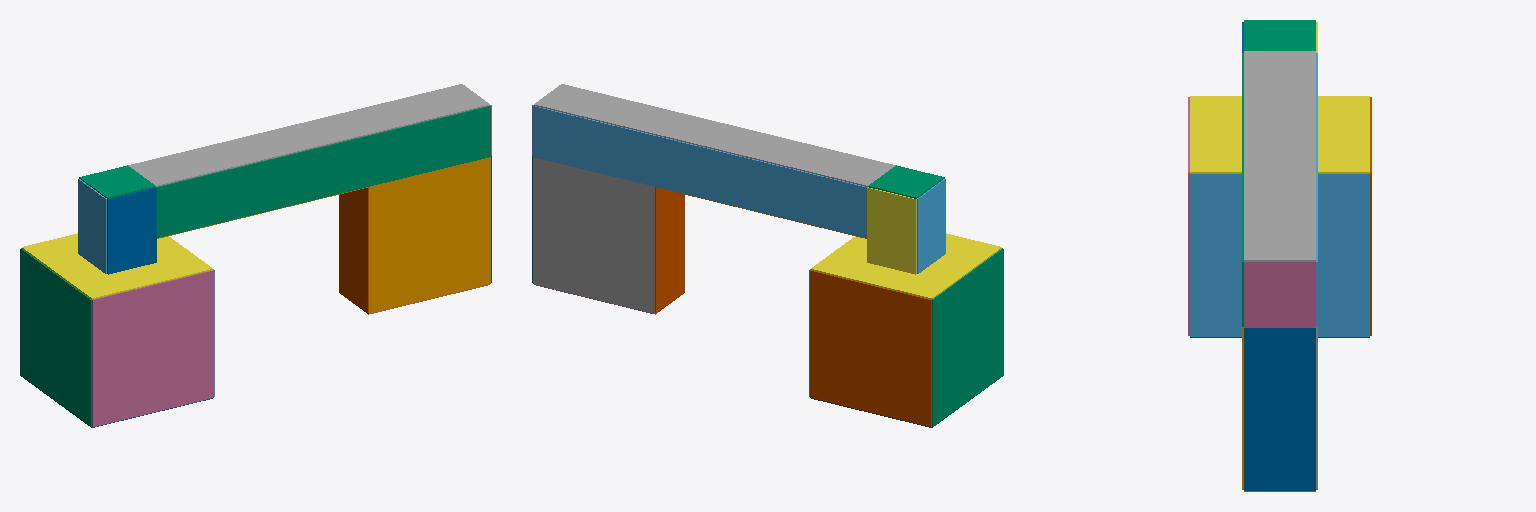
--- What the picture shows (computed from the rendered views, not written in the file) ---
The picture shows the robot from 3 angles, left to right: view 1: azimuth 30°, elevation 25°; view 2: azimuth 150°, elevation 25°; view 3: azimuth 270°, elevation 25°; orthographic projection.
Robot: robot — 34 links, 33 joints (1 continuous, 32 fixed); root link body; default pose: all joints at 0.
Visible links, largest first — view 1: arm_sensor_0_right, body_sensor_0_right, hand_1_sensor_0_right, arm_sensor_0_top, body_sensor_0_stop, body_sensor_0_top, shoulder_sensor_0_right, hand_1_sensor_0_stop, shoulder_sensor_0_stop, shoulder_sensor_0_top; view 2: arm_sensor_0_left, body_sensor_0_left, hand_1_sensor_0_left, arm_sensor_0_top, body_sensor_0_stop, body_sensor_0_top, shoulder_sensor_0_left, hand_1_sensor_0_stop, shoulder_sensor_0_stop, shoulder_sensor_0_top; view 3: body_sensor_0_start, arm_sensor_0_top, hand_1_sensor_0_start, body_sensor_0_top, arm_sensor_0_start, shoulder_sensor_0_top, arm_sensor_0_left, arm_sensor_0_right.
Link boxes in pixels (<box>): arm_sensor_0_right: <box>156,106,490,237</box>; body_sensor_0_right: <box>92,270,213,426</box>; hand_1_sensor_0_right: <box>369,157,490,313</box>; arm_sensor_0_top: <box>128,84,489,186</box>; body_sensor_0_stop: <box>20,248,91,426</box>; body_sensor_0_top: <box>22,233,212,299</box>; shoulder_sensor_0_right: <box>107,187,156,274</box>; hand_1_sensor_0_stop: <box>339,187,368,313</box>; shoulder_sensor_0_stop: <box>78,179,106,273</box>; shoulder_sensor_0_top: <box>79,165,155,198</box>; arm_sensor_0_left: <box>533,106,867,237</box>; body_sensor_0_left: <box>810,270,931,426</box>; hand_1_sensor_0_left: <box>533,157,654,313</box>; arm_sensor_0_top: <box>534,84,895,186</box>; body_sensor_0_stop: <box>932,248,1003,426</box>; body_sensor_0_top: <box>811,233,1001,299</box>; shoulder_sensor_0_left: <box>867,187,916,274</box>; hand_1_sensor_0_stop: <box>655,187,684,313</box>; shoulder_sensor_0_stop: <box>917,179,945,273</box>; shoulder_sensor_0_top: <box>868,165,944,198</box>; body_sensor_0_start: <box>1190,173,1369,336</box>; arm_sensor_0_top: <box>1244,51,1315,261</box>; hand_1_sensor_0_start: <box>1244,328,1315,490</box>; body_sensor_0_top: <box>1190,96,1369,172</box>; arm_sensor_0_start: <box>1244,262,1315,327</box>; shoulder_sensor_0_top: <box>1244,20,1315,50</box>; arm_sensor_0_left: <box>1316,53,1317,326</box>; arm_sensor_0_right: <box>1242,53,1243,326</box>.
Bounding box of the posed robot: 3.47 × 1.02 × 1.62 m (x, y, z).
Geometry: primitives only (box / cylinder / sphere), no mesh files.

The robot description file, URDF, robot "robot":
<?xml version="1.0"?>
<robot name="robot">


    <!-- body -->
    <link name="body">
        <inertial>
            <origin xyz="0 0 0" rpy="0 0 0"/>
            <mass value="100"/>
            <inertia ixx=".1" ixy=".1" ixz=".1" iyy=".1" iyz=".1" izz=".1"/>
        </inertial>
        <visual>
            <origin xyz="0 0 0" rpy="0 0 0"/>
            <geometry>
                <box size="1 1 1"/>
            </geometry>
        </visual>
        <collision>
            <origin xyz="0 0 0" rpy="0 0 0"/>
            <geometry>
                <box size="1 1 1"/>
            </geometry>
        </collision>
    </link>


    <!-- body_sensor_0_start -->
    <link name="body_sensor_0_start">
        <inertial>
            <origin xyz="0 0 0" rpy="0 0 0"/>
            <mass value="0"/>
            <inertia ixx=".1" ixy=".1" ixz=".1" iyy=".1" iyz=".1" izz=".1"/>
        </inertial>
        <visual>
            <origin xyz="0 0 0" rpy="0 0 0"/>
            <geometry>
                <box size="0.02 1 1"/>
            </geometry>
        </visual>
        <collision>
            <origin xyz="0 0 0" rpy="0 0 0"/>
            <geometry>
                <box size="0.02 1 1"/>
            </geometry>
        </collision>
    </link>
    <!-- Joint: body, body_sensor_0_start -->
    <joint name="body_body_sensor_0_start_joint" type="fixed">
        <parent link="body"/>
        <child link="body_sensor_0_start"/>
        <origin xyz="0.5 0 0"
                rpy="0 0 0"/>
        <axis xyz="0 0 1"/>
        
    </joint>


    <!-- body_sensor_0_stop -->
    <link name="body_sensor_0_stop">
        <inertial>
            <origin xyz="0 0 0" rpy="0 0 0"/>
            <mass value="0"/>
            <inertia ixx=".1" ixy=".1" ixz=".1" iyy=".1" iyz=".1" izz=".1"/>
        </inertial>
        <visual>
            <origin xyz="0 0 0" rpy="0 0 0"/>
            <geometry>
                <box size="0.02 1 1"/>
            </geometry>
        </visual>
        <collision>
            <origin xyz="0 0 0" rpy="0 0 0"/>
            <geometry>
                <box size="0.02 1 1"/>
            </geometry>
        </collision>
    </link>
    <!-- Joint: body, body_sensor_0_stop -->
    <joint name="body_body_sensor_0_stop_joint" type="fixed">
        <parent link="body"/>
        <child link="body_sensor_0_stop"/>
        <origin xyz="-0.5 0 0"
                rpy="0 0 0"/>
        <axis xyz="0 0 1"/>
        
    </joint>


    <!-- body_sensor_0_top -->
    <link name="body_sensor_0_top">
        <inertial>
            <origin xyz="0 0 0" rpy="0 0 0"/>
            <mass value="0"/>
            <inertia ixx=".1" ixy=".1" ixz=".1" iyy=".1" iyz=".1" izz=".1"/>
        </inertial>
        <visual>
            <origin xyz="0 0 0" rpy="0 0 0"/>
            <geometry>
                <box size="1.0 1 0.02"/>
            </geometry>
        </visual>
        <collision>
            <origin xyz="0 0 0" rpy="0 0 0"/>
            <geometry>
                <box size="1.0 1 0.02"/>
            </geometry>
        </collision>
    </link>
    <!-- Joint: body, body_sensor_0_top -->
    <joint name="body_body_sensor_0_top_joint" type="fixed">
        <parent link="body"/>
        <child link="body_sensor_0_top"/>
        <origin xyz="0 0 0.5"
                rpy="0 0 0"/>
        <axis xyz="0 0 1"/>
        
    </joint>


    <!-- body_sensor_0_bottom -->
    <link name="body_sensor_0_bottom">
        <inertial>
            <origin xyz="0 0 0" rpy="0 0 0"/>
            <mass value="0"/>
            <inertia ixx=".1" ixy=".1" ixz=".1" iyy=".1" iyz=".1" izz=".1"/>
        </inertial>
        <visual>
            <origin xyz="0 0 0" rpy="0 0 0"/>
            <geometry>
                <box size="1.0 1 0.02"/>
            </geometry>
        </visual>
        <collision>
            <origin xyz="0 0 0" rpy="0 0 0"/>
            <geometry>
                <box size="1.0 1 0.02"/>
            </geometry>
        </collision>
    </link>
    <!-- Joint: body, body_sensor_0_bottom -->
    <joint name="body_body_sensor_0_bottom_joint" type="fixed">
        <parent link="body"/>
        <child link="body_sensor_0_bottom"/>
        <origin xyz="0 0 -0.5"
                rpy="0 0 0"/>
        <axis xyz="0 0 1"/>
        
    </joint>


    <!-- body_sensor_0_left -->
    <link name="body_sensor_0_left">
        <inertial>
            <origin xyz="0 0 0" rpy="0 0 0"/>
            <mass value="0"/>
            <inertia ixx=".1" ixy=".1" ixz=".1" iyy=".1" iyz=".1" izz=".1"/>
        </inertial>
        <visual>
            <origin xyz="0 0 0" rpy="0 0 0"/>
            <geometry>
                <box size="1.0 0.02 1"/>
            </geometry>
        </visual>
        <collision>
            <origin xyz="0 0 0" rpy="0 0 0"/>
            <geometry>
                <box size="1.0 0.02 1"/>
            </geometry>
        </collision>
    </link>
    <!-- Joint: body, body_sensor_0_left -->
    <joint name="body_body_sensor_0_left_joint" type="fixed">
        <parent link="body"/>
        <child link="body_sensor_0_left"/>
        <origin xyz="0 0.5 0"
                rpy="0 0 0"/>
        <axis xyz="0 0 1"/>
        
    </joint>


    <!-- body_sensor_0_right -->
    <link name="body_sensor_0_right">
        <inertial>
            <origin xyz="0 0 0" rpy="0 0 0"/>
            <mass value="0"/>
            <inertia ixx=".1" ixy=".1" ixz=".1" iyy=".1" iyz=".1" izz=".1"/>
        </inertial>
        <visual>
            <origin xyz="0 0 0" rpy="0 0 0"/>
            <geometry>
                <box size="1.0 0.02 1"/>
            </geometry>
        </visual>
        <collision>
            <origin xyz="0 0 0" rpy="0 0 0"/>
            <geometry>
                <box size="1.0 0.02 1"/>
            </geometry>
        </collision>
    </link>
    <!-- Joint: body, body_sensor_0_right -->
    <joint name="body_body_sensor_0_right_joint" type="fixed">
        <parent link="body"/>
        <child link="body_sensor_0_right"/>
        <origin xyz="0 -0.5 0"
                rpy="0 0 0"/>
        <axis xyz="0 0 1"/>
        
    </joint>


    <!-- shoulder -->
    <link name="shoulder">
        <inertial>
            <origin xyz="0 0 0" rpy="0 0 0"/>
            <mass value="2"/>
            <inertia ixx=".1" ixy=".1" ixz=".1" iyy=".1" iyz=".1" izz=".1"/>
        </inertial>
        <visual>
            <origin xyz="0 0 0" rpy="0 0 0"/>
            <geometry>
                <box size="0.4 0.4 0.6"/>
            </geometry>
        </visual>
        <collision>
            <origin xyz="0 0 0" rpy="0 0 0"/>
            <geometry>
                <box size="0.4 0.4 0.6"/>
            </geometry>
        </collision>
    </link>


    <!-- shoulder_sensor_0_start -->
    <link name="shoulder_sensor_0_start">
        <inertial>
            <origin xyz="0 0 0" rpy="0 0 0"/>
            <mass value="0"/>
            <inertia ixx=".1" ixy=".1" ixz=".1" iyy=".1" iyz=".1" izz=".1"/>
        </inertial>
        <visual>
            <origin xyz="0 0 0" rpy="0 0 0"/>
            <geometry>
                <box size="0.02 0.4 0.6"/>
            </geometry>
        </visual>
        <collision>
            <origin xyz="0 0 0" rpy="0 0 0"/>
            <geometry>
                <box size="0.02 0.4 0.6"/>
            </geometry>
        </collision>
    </link>
    <!-- Joint: shoulder, shoulder_sensor_0_start -->
    <joint name="shoulder_shoulder_sensor_0_start_joint" type="fixed">
        <parent link="shoulder"/>
        <child link="shoulder_sensor_0_start"/>
        <origin xyz="0.2 0 0"
                rpy="0 0 0"/>
        <axis xyz="0 0 1"/>
        
    </joint>


    <!-- shoulder_sensor_0_stop -->
    <link name="shoulder_sensor_0_stop">
        <inertial>
            <origin xyz="0 0 0" rpy="0 0 0"/>
            <mass value="0"/>
            <inertia ixx=".1" ixy=".1" ixz=".1" iyy=".1" iyz=".1" izz=".1"/>
        </inertial>
        <visual>
            <origin xyz="0 0 0" rpy="0 0 0"/>
            <geometry>
                <box size="0.02 0.4 0.6"/>
            </geometry>
        </visual>
        <collision>
            <origin xyz="0 0 0" rpy="0 0 0"/>
            <geometry>
                <box size="0.02 0.4 0.6"/>
            </geometry>
        </collision>
    </link>
    <!-- Joint: shoulder, shoulder_sensor_0_stop -->
    <joint name="shoulder_shoulder_sensor_0_stop_joint" type="fixed">
        <parent link="shoulder"/>
        <child link="shoulder_sensor_0_stop"/>
        <origin xyz="-0.2 0 0"
                rpy="0 0 0"/>
        <axis xyz="0 0 1"/>
        
    </joint>


    <!-- shoulder_sensor_0_top -->
    <link name="shoulder_sensor_0_top">
        <inertial>
            <origin xyz="0 0 0" rpy="0 0 0"/>
            <mass value="0"/>
            <inertia ixx=".1" ixy=".1" ixz=".1" iyy=".1" iyz=".1" izz=".1"/>
        </inertial>
        <visual>
            <origin xyz="0 0 0" rpy="0 0 0"/>
            <geometry>
                <box size="0.4 0.4 0.02"/>
            </geometry>
        </visual>
        <collision>
            <origin xyz="0 0 0" rpy="0 0 0"/>
            <geometry>
                <box size="0.4 0.4 0.02"/>
            </geometry>
        </collision>
    </link>
    <!-- Joint: shoulder, shoulder_sensor_0_top -->
    <joint name="shoulder_shoulder_sensor_0_top_joint" type="fixed">
        <parent link="shoulder"/>
        <child link="shoulder_sensor_0_top"/>
        <origin xyz="0 0 0.3"
                rpy="0 0 0"/>
        <axis xyz="0 0 1"/>
        
    </joint>


    <!-- shoulder_sensor_0_left -->
    <link name="shoulder_sensor_0_left">
        <inertial>
            <origin xyz="0 0 0" rpy="0 0 0"/>
            <mass value="0"/>
            <inertia ixx=".1" ixy=".1" ixz=".1" iyy=".1" iyz=".1" izz=".1"/>
        </inertial>
        <visual>
            <origin xyz="0 0 0" rpy="0 0 0"/>
            <geometry>
                <box size="0.4 0.02 0.6"/>
            </geometry>
        </visual>
        <collision>
            <origin xyz="0 0 0" rpy="0 0 0"/>
            <geometry>
                <box size="0.4 0.02 0.6"/>
            </geometry>
        </collision>
    </link>
    <!-- Joint: shoulder, shoulder_sensor_0_left -->
    <joint name="shoulder_shoulder_sensor_0_left_joint" type="fixed">
        <parent link="shoulder"/>
        <child link="shoulder_sensor_0_left"/>
        <origin xyz="0 0.2 0"
                rpy="0 0 0"/>
        <axis xyz="0 0 1"/>
        
    </joint>


    <!-- shoulder_sensor_0_right -->
    <link name="shoulder_sensor_0_right">
        <inertial>
            <origin xyz="0 0 0" rpy="0 0 0"/>
            <mass value="0"/>
            <inertia ixx=".1" ixy=".1" ixz=".1" iyy=".1" iyz=".1" izz=".1"/>
        </inertial>
        <visual>
            <origin xyz="0 0 0" rpy="0 0 0"/>
            <geometry>
                <box size="0.4 0.02 0.6"/>
            </geometry>
        </visual>
        <collision>
            <origin xyz="0 0 0" rpy="0 0 0"/>
            <geometry>
                <box size="0.4 0.02 0.6"/>
            </geometry>
        </collision>
    </link>
    <!-- Joint: shoulder, shoulder_sensor_0_right -->
    <joint name="shoulder_shoulder_sensor_0_right_joint" type="fixed">
        <parent link="shoulder"/>
        <child link="shoulder_sensor_0_right"/>
        <origin xyz="0 -0.2 0"
                rpy="0 0 0"/>
        <axis xyz="0 0 1"/>
        
    </joint>
    <!-- Joint: body, shoulder -->
    <joint name="body_shoulder_joint" type="continuous">
        <parent link="body"/>
        <child link="shoulder"/>
        <origin xyz="0 0 0.8"
                rpy="0 0 0"/>
        <axis xyz="0 0 1"/>
        <limit lower="0" upper="0" effort="0" velocity="0"/>
    </joint>


    <!-- arm -->
    <link name="arm">
        <inertial>
            <origin xyz="0 0 0" rpy="0 0 0"/>
            <mass value="2"/>
            <inertia ixx=".1" ixy=".1" ixz=".1" iyy=".1" iyz=".1" izz=".1"/>
        </inertial>
        <visual>
            <origin xyz="0 0 0" rpy="0 0 0"/>
            <geometry>
                <box size="2.75 0.4 0.4"/>
            </geometry>
        </visual>
        <collision>
            <origin xyz="0 0 0" rpy="0 0 0"/>
            <geometry>
                <box size="2.75 0.4 0.4"/>
            </geometry>
        </collision>
    </link>


    <!-- arm_sensor_0_start -->
    <link name="arm_sensor_0_start">
        <inertial>
            <origin xyz="0 0 0" rpy="0 0 0"/>
            <mass value="0"/>
            <inertia ixx=".1" ixy=".1" ixz=".1" iyy=".1" iyz=".1" izz=".1"/>
        </inertial>
        <visual>
            <origin xyz="0 0 0" rpy="0 0 0"/>
            <geometry>
                <box size="0.02 0.4 0.4"/>
            </geometry>
        </visual>
        <collision>
            <origin xyz="0 0 0" rpy="0 0 0"/>
            <geometry>
                <box size="0.02 0.4 0.4"/>
            </geometry>
        </collision>
    </link>
    <!-- Joint: arm, arm_sensor_0_start -->
    <joint name="arm_arm_sensor_0_start_joint" type="fixed">
        <parent link="arm"/>
        <child link="arm_sensor_0_start"/>
        <origin xyz="1.375 0 0"
                rpy="0 0 0"/>
        <axis xyz="0 1 0"/>
        
    </joint>


    <!-- arm_sensor_0_top -->
    <link name="arm_sensor_0_top">
        <inertial>
            <origin xyz="0 0 0" rpy="0 0 0"/>
            <mass value="0"/>
            <inertia ixx=".1" ixy=".1" ixz=".1" iyy=".1" iyz=".1" izz=".1"/>
        </inertial>
        <visual>
            <origin xyz="0 0 0" rpy="0 0 0"/>
            <geometry>
                <box size="2.75 0.4 0.02"/>
            </geometry>
        </visual>
        <collision>
            <origin xyz="0 0 0" rpy="0 0 0"/>
            <geometry>
                <box size="2.75 0.4 0.02"/>
            </geometry>
        </collision>
    </link>
    <!-- Joint: arm, arm_sensor_0_top -->
    <joint name="arm_arm_sensor_0_top_joint" type="fixed">
        <parent link="arm"/>
        <child link="arm_sensor_0_top"/>
        <origin xyz="0 0 0.2"
                rpy="0 0 0"/>
        <axis xyz="0 1 0"/>
        
    </joint>


    <!-- arm_sensor_0_bottom -->
    <link name="arm_sensor_0_bottom">
        <inertial>
            <origin xyz="0 0 0" rpy="0 0 0"/>
            <mass value="0"/>
            <inertia ixx=".1" ixy=".1" ixz=".1" iyy=".1" iyz=".1" izz=".1"/>
        </inertial>
        <visual>
            <origin xyz="0 0 0" rpy="0 0 0"/>
            <geometry>
                <box size="2.75 0.4 0.02"/>
            </geometry>
        </visual>
        <collision>
            <origin xyz="0 0 0" rpy="0 0 0"/>
            <geometry>
                <box size="2.75 0.4 0.02"/>
            </geometry>
        </collision>
    </link>
    <!-- Joint: arm, arm_sensor_0_bottom -->
    <joint name="arm_arm_sensor_0_bottom_joint" type="fixed">
        <parent link="arm"/>
        <child link="arm_sensor_0_bottom"/>
        <origin xyz="0 0 -0.2"
                rpy="0 0 0"/>
        <axis xyz="0 1 0"/>
        
    </joint>


    <!-- arm_sensor_0_left -->
    <link name="arm_sensor_0_left">
        <inertial>
            <origin xyz="0 0 0" rpy="0 0 0"/>
            <mass value="0"/>
            <inertia ixx=".1" ixy=".1" ixz=".1" iyy=".1" iyz=".1" izz=".1"/>
        </inertial>
        <visual>
            <origin xyz="0 0 0" rpy="0 0 0"/>
            <geometry>
                <box size="2.75 0.02 0.4"/>
            </geometry>
        </visual>
        <collision>
            <origin xyz="0 0 0" rpy="0 0 0"/>
            <geometry>
                <box size="2.75 0.02 0.4"/>
            </geometry>
        </collision>
    </link>
    <!-- Joint: arm, arm_sensor_0_left -->
    <joint name="arm_arm_sensor_0_left_joint" type="fixed">
        <parent link="arm"/>
        <child link="arm_sensor_0_left"/>
        <origin xyz="0 0.2 0"
                rpy="0 0 0"/>
        <axis xyz="0 1 0"/>
        
    </joint>


    <!-- arm_sensor_0_right -->
    <link name="arm_sensor_0_right">
        <inertial>
            <origin xyz="0 0 0" rpy="0 0 0"/>
            <mass value="0"/>
            <inertia ixx=".1" ixy=".1" ixz=".1" iyy=".1" iyz=".1" izz=".1"/>
        </inertial>
        <visual>
            <origin xyz="0 0 0" rpy="0 0 0"/>
            <geometry>
                <box size="2.75 0.02 0.4"/>
            </geometry>
        </visual>
        <collision>
            <origin xyz="0 0 0" rpy="0 0 0"/>
            <geometry>
                <box size="2.75 0.02 0.4"/>
            </geometry>
        </collision>
    </link>
    <!-- Joint: arm, arm_sensor_0_right -->
    <joint name="arm_arm_sensor_0_right_joint" type="fixed">
        <parent link="arm"/>
        <child link="arm_sensor_0_right"/>
        <origin xyz="0 -0.2 0"
                rpy="0 0 0"/>
        <axis xyz="0 1 0"/>
        
    </joint>
    <!-- Joint: shoulder, arm -->
    <joint name="shoulder_arm_joint" type="fixed">
        <parent link="shoulder"/>
        <child link="arm"/>
        <origin xyz="1.575 0 0.1"
                rpy="0 0 0"/>
        <axis xyz="0 1 0"/>
        
    </joint>


    <!-- hand_1 -->
    <link name="hand_1">
        <inertial>
            <origin xyz="0 0 0" rpy="0 0 0"/>
            <mass value="2"/>
            <inertia ixx=".1" ixy=".1" ixz=".1" iyy=".1" iyz=".1" izz=".1"/>
        </inertial>
        <visual>
            <origin xyz="0 0 0" rpy="0 0 0"/>
            <geometry>
                <box size="1 0.4 1"/>
            </geometry>
        </visual>
        <collision>
            <origin xyz="0 0 0" rpy="0 0 0"/>
            <geometry>
                <box size="1 0.4 1"/>
            </geometry>
        </collision>
    </link>


    <!-- hand_1_sensor_0_start -->
    <link name="hand_1_sensor_0_start">
        <inertial>
            <origin xyz="0 0 0" rpy="0 0 0"/>
            <mass value="0"/>
            <inertia ixx=".1" ixy=".1" ixz=".1" iyy=".1" iyz=".1" izz=".1"/>
        </inertial>
        <visual>
            <origin xyz="0 0 0" rpy="0 0 0"/>
            <geometry>
                <box size="0.02 0.4 1"/>
            </geometry>
        </visual>
        <collision>
            <origin xyz="0 0 0" rpy="0 0 0"/>
            <geometry>
                <box size="0.02 0.4 1"/>
            </geometry>
        </collision>
    </link>
    <!-- Joint: hand_1, hand_1_sensor_0_start -->
    <joint name="hand_1_hand_1_sensor_0_start_joint" type="fixed">
        <parent link="hand_1"/>
        <child link="hand_1_sensor_0_start"/>
        <origin xyz="0.5 0 0"
                rpy="0 0 0"/>
        <axis xyz="0 1 0"/>
        
    </joint>


    <!-- hand_1_sensor_0_stop -->
    <link name="hand_1_sensor_0_stop">
        <inertial>
            <origin xyz="0 0 0" rpy="0 0 0"/>
            <mass value="0"/>
            <inertia ixx=".1" ixy=".1" ixz=".1" iyy=".1" iyz=".1" izz=".1"/>
        </inertial>
        <visual>
            <origin xyz="0 0 0" rpy="0 0 0"/>
            <geometry>
                <box size="0.02 0.4 1"/>
            </geometry>
        </visual>
        <collision>
            <origin xyz="0 0 0" rpy="0 0 0"/>
            <geometry>
                <box size="0.02 0.4 1"/>
            </geometry>
        </collision>
    </link>
    <!-- Joint: hand_1, hand_1_sensor_0_stop -->
    <joint name="hand_1_hand_1_sensor_0_stop_joint" type="fixed">
        <parent link="hand_1"/>
        <child link="hand_1_sensor_0_stop"/>
        <origin xyz="-0.5 0 0"
                rpy="0 0 0"/>
        <axis xyz="0 1 0"/>
        
    </joint>


    <!-- hand_1_sensor_0_bottom -->
    <link name="hand_1_sensor_0_bottom">
        <inertial>
            <origin xyz="0 0 0" rpy="0 0 0"/>
            <mass value="0"/>
            <inertia ixx=".1" ixy=".1" ixz=".1" iyy=".1" iyz=".1" izz=".1"/>
        </inertial>
        <visual>
            <origin xyz="0 0 0" rpy="0 0 0"/>
            <geometry>
                <box size="1.0 0.4 0.02"/>
            </geometry>
        </visual>
        <collision>
            <origin xyz="0 0 0" rpy="0 0 0"/>
            <geometry>
                <box size="1.0 0.4 0.02"/>
            </geometry>
        </collision>
    </link>
    <!-- Joint: hand_1, hand_1_sensor_0_bottom -->
    <joint name="hand_1_hand_1_sensor_0_bottom_joint" type="fixed">
        <parent link="hand_1"/>
        <child link="hand_1_sensor_0_bottom"/>
        <origin xyz="0 0 -0.5"
                rpy="0 0 0"/>
        <axis xyz="0 1 0"/>
        
    </joint>


    <!-- hand_1_sensor_0_left -->
    <link name="hand_1_sensor_0_left">
        <inertial>
            <origin xyz="0 0 0" rpy="0 0 0"/>
            <mass value="0"/>
            <inertia ixx=".1" ixy=".1" ixz=".1" iyy=".1" iyz=".1" izz=".1"/>
        </inertial>
        <visual>
            <origin xyz="0 0 0" rpy="0 0 0"/>
            <geometry>
                <box size="1.0 0.02 1"/>
            </geometry>
        </visual>
        <collision>
            <origin xyz="0 0 0" rpy="0 0 0"/>
            <geometry>
                <box size="1.0 0.02 1"/>
            </geometry>
        </collision>
    </link>
    <!-- Joint: hand_1, hand_1_sensor_0_left -->
    <joint name="hand_1_hand_1_sensor_0_left_joint" type="fixed">
        <parent link="hand_1"/>
        <child link="hand_1_sensor_0_left"/>
        <origin xyz="0 0.2 0"
                rpy="0 0 0"/>
        <axis xyz="0 1 0"/>
        
    </joint>


    <!-- hand_1_sensor_0_right -->
    <link name="hand_1_sensor_0_right">
        <inertial>
            <origin xyz="0 0 0" rpy="0 0 0"/>
            <mass value="0"/>
            <inertia ixx=".1" ixy=".1" ixz=".1" iyy=".1" iyz=".1" izz=".1"/>
        </inertial>
        <visual>
            <origin xyz="0 0 0" rpy="0 0 0"/>
            <geometry>
                <box size="1.0 0.02 1"/>
            </geometry>
        </visual>
        <collision>
            <origin xyz="0 0 0" rpy="0 0 0"/>
            <geometry>
                <box size="1.0 0.02 1"/>
            </geometry>
        </collision>
    </link>
    <!-- Joint: hand_1, hand_1_sensor_0_right -->
    <joint name="hand_1_hand_1_sensor_0_right_joint" type="fixed">
        <parent link="hand_1"/>
        <child link="hand_1_sensor_0_right"/>
        <origin xyz="0 -0.2 0"
                rpy="0 0 0"/>
        <axis xyz="0 1 0"/>
        
    </joint>
    <!-- Joint: arm, hand_1 -->
    <joint name="arm_hand_1_joint" type="fixed">
        <parent link="arm"/>
        <child link="hand_1"/>
        <origin xyz="0.875 0 -0.7"
                rpy="0 0 0"/>
        <axis xyz="0 1 0"/>
        
    </joint>


    <!-- body_face_0 -->
    <link name="body_face_0">
        <inertial>
            <origin xyz="0 0 0" rpy="0 0 0"/>
            <mass value="0"/>
            <inertia ixx=".1" ixy=".1" ixz=".1" iyy=".1" iyz=".1" izz=".1"/>
        </inertial>
        <visual>
            <origin xyz="0 0 0" rpy="0 0 0"/>
            <geometry>
                <box size="0.002 0.1111111111111111 0.1111111111111111"/>
            </geometry>
        </visual>
        <collision>
            <origin xyz="0 0 0" rpy="0 0 0"/>
            <geometry>
                <box size="0.002 0.1111111111111111 0.1111111111111111"/>
            </geometry>
        </collision>
    </link>
    <!-- Joint: body, body_face_0 -->
    <joint name="body_body_face_0_joint" type="fixed">
        <parent link="body"/>
        <child link="body_face_0"/>
        <origin xyz="0.501 -0.33333333333333337 0.11111111111111116"
                rpy="0 0 0"/>
        <axis xyz="0 0 1"/>
        
    </joint>


    <!-- body_face_1 -->
    <link name="body_face_1">
        <inertial>
            <origin xyz="0 0 0" rpy="0 0 0"/>
            <mass value="0"/>
            <inertia ixx=".1" ixy=".1" ixz=".1" iyy=".1" iyz=".1" izz=".1"/>
        </inertial>
        <visual>
            <origin xyz="0 0 0" rpy="0 0 0"/>
            <geometry>
                <box size="0.002 0.1111111111111111 0.1111111111111111"/>
            </geometry>
        </visual>
        <collision>
            <origin xyz="0 0 0" rpy="0 0 0"/>
            <geometry>
                <box size="0.002 0.1111111111111111 0.1111111111111111"/>
            </geometry>
        </collision>
    </link>
    <!-- Joint: body, body_face_1 -->
    <joint name="body_body_face_1_joint" type="fixed">
        <parent link="body"/>
        <child link="body_face_1"/>
        <origin xyz="0.501 -0.2222222222222222 0.2222222222222222"
                rpy="0 0 0"/>
        <axis xyz="0 0 1"/>
        
    </joint>


    <!-- body_face_2 -->
    <link name="body_face_2">
        <inertial>
            <origin xyz="0 0 0" rpy="0 0 0"/>
            <mass value="0"/>
            <inertia ixx=".1" ixy=".1" ixz=".1" iyy=".1" iyz=".1" izz=".1"/>
        </inertial>
        <visual>
            <origin xyz="0 0 0" rpy="0 0 0"/>
            <geometry>
                <box size="0.002 0.1111111111111111 0.1111111111111111"/>
            </geometry>
        </visual>
        <collision>
            <origin xyz="0 0 0" rpy="0 0 0"/>
            <geometry>
                <box size="0.002 0.1111111111111111 0.1111111111111111"/>
            </geometry>
        </collision>
    </link>
    <!-- Joint: body, body_face_2 -->
    <joint name="body_body_face_2_joint" type="fixed">
        <parent link="body"/>
        <child link="body_face_2"/>
        <origin xyz="0.501 -0.1111111111111111 0.11111111111111116"
                rpy="0 0 0"/>
        <axis xyz="0 0 1"/>
        
    </joint>


    <!-- body_face_3 -->
    <link name="body_face_3">
        <inertial>
            <origin xyz="0 0 0" rpy="0 0 0"/>
            <mass value="0"/>
            <inertia ixx=".1" ixy=".1" ixz=".1" iyy=".1" iyz=".1" izz=".1"/>
        </inertial>
        <visual>
            <origin xyz="0 0 0" rpy="0 0 0"/>
            <geometry>
                <box size="0.002 0.1111111111111111 0.1111111111111111"/>
            </geometry>
        </visual>
        <collision>
            <origin xyz="0 0 0" rpy="0 0 0"/>
            <geometry>
                <box size="0.002 0.1111111111111111 0.1111111111111111"/>
            </geometry>
        </collision>
    </link>
    <!-- Joint: body, body_face_3 -->
    <joint name="body_body_face_3_joint" type="fixed">
        <parent link="body"/>
        <child link="body_face_3"/>
        <origin xyz="0.501 -0.1111111111111111 -0.2222222222222222"
                rpy="0 0 0"/>
        <axis xyz="0 0 1"/>
        
    </joint>


    <!-- body_face_4 -->
    <link name="body_face_4">
        <inertial>
            <origin xyz="0 0 0" rpy="0 0 0"/>
            <mass value="0"/>
            <inertia ixx=".1" ixy=".1" ixz=".1" iyy=".1" iyz=".1" izz=".1"/>
        </inertial>
        <visual>
            <origin xyz="0 0 0" rpy="0 0 0"/>
            <geometry>
                <box size="0.002 0.1111111111111111 0.1111111111111111"/>
            </geometry>
        </visual>
        <collision>
            <origin xyz="0 0 0" rpy="0 0 0"/>
            <geometry>
                <box size="0.002 0.1111111111111111 0.1111111111111111"/>
            </geometry>
        </collision>
    </link>
    <!-- Joint: body, body_face_4 -->
    <joint name="body_body_face_4_joint" type="fixed">
        <parent link="body"/>
        <child link="body_face_4"/>
        <origin xyz="0.501 0.0 -0.2222222222222222"
                rpy="0 0 0"/>
        <axis xyz="0 0 1"/>
        
    </joint>


    <!-- body_face_5 -->
    <link name="body_face_5">
        <inertial>
            <origin xyz="0 0 0" rpy="0 0 0"/>
            <mass value="0"/>
            <inertia ixx=".1" ixy=".1" ixz=".1" iyy=".1" iyz=".1" izz=".1"/>
        </inertial>
        <visual>
            <origin xyz="0 0 0" rpy="0 0 0"/>
            <geometry>
                <box size="0.002 0.1111111111111111 0.1111111111111111"/>
            </geometry>
        </visual>
        <collision>
            <origin xyz="0 0 0" rpy="0 0 0"/>
            <geometry>
                <box size="0.002 0.1111111111111111 0.1111111111111111"/>
            </geometry>
        </collision>
    </link>
    <!-- Joint: body, body_face_5 -->
    <joint name="body_body_face_5_joint" type="fixed">
        <parent link="body"/>
        <child link="body_face_5"/>
        <origin xyz="0.501 0.11111111111111116 0.11111111111111116"
                rpy="0 0 0"/>
        <axis xyz="0 0 1"/>
        
    </joint>


    <!-- body_face_6 -->
    <link name="body_face_6">
        <inertial>
            <origin xyz="0 0 0" rpy="0 0 0"/>
            <mass value="0"/>
            <inertia ixx=".1" ixy=".1" ixz=".1" iyy=".1" iyz=".1" izz=".1"/>
        </inertial>
        <visual>
            <origin xyz="0 0 0" rpy="0 0 0"/>
            <geometry>
                <box size="0.002 0.1111111111111111 0.1111111111111111"/>
            </geometry>
        </visual>
        <collision>
            <origin xyz="0 0 0" rpy="0 0 0"/>
            <geometry>
                <box size="0.002 0.1111111111111111 0.1111111111111111"/>
            </geometry>
        </collision>
    </link>
    <!-- Joint: body, body_face_6 -->
    <joint name="body_body_face_6_joint" type="fixed">
        <parent link="body"/>
        <child link="body_face_6"/>
        <origin xyz="0.501 0.11111111111111116 -0.2222222222222222"
                rpy="0 0 0"/>
        <axis xyz="0 0 1"/>
        
    </joint>


    <!-- body_face_7 -->
    <link name="body_face_7">
        <inertial>
            <origin xyz="0 0 0" rpy="0 0 0"/>
            <mass value="0"/>
            <inertia ixx=".1" ixy=".1" ixz=".1" iyy=".1" iyz=".1" izz=".1"/>
        </inertial>
        <visual>
            <origin xyz="0 0 0" rpy="0 0 0"/>
            <geometry>
                <box size="0.002 0.1111111111111111 0.1111111111111111"/>
            </geometry>
        </visual>
        <collision>
            <origin xyz="0 0 0" rpy="0 0 0"/>
            <geometry>
                <box size="0.002 0.1111111111111111 0.1111111111111111"/>
            </geometry>
        </collision>
    </link>
    <!-- Joint: body, body_face_7 -->
    <joint name="body_body_face_7_joint" type="fixed">
        <parent link="body"/>
        <child link="body_face_7"/>
        <origin xyz="0.501 0.2222222222222222 0.2222222222222222"
                rpy="0 0 0"/>
        <axis xyz="0 0 1"/>
        
    </joint>


    <!-- body_face_8 -->
    <link name="body_face_8">
        <inertial>
            <origin xyz="0 0 0" rpy="0 0 0"/>
            <mass value="0"/>
            <inertia ixx=".1" ixy=".1" ixz=".1" iyy=".1" iyz=".1" izz=".1"/>
        </inertial>
        <visual>
            <origin xyz="0 0 0" rpy="0 0 0"/>
            <geometry>
                <box size="0.002 0.1111111111111111 0.1111111111111111"/>
            </geometry>
        </visual>
        <collision>
            <origin xyz="0 0 0" rpy="0 0 0"/>
            <geometry>
                <box size="0.002 0.1111111111111111 0.1111111111111111"/>
            </geometry>
        </collision>
    </link>
    <!-- Joint: body, body_face_8 -->
    <joint name="body_body_face_8_joint" type="fixed">
        <parent link="body"/>
        <child link="body_face_8"/>
        <origin xyz="0.501 0.33333333333333337 0.11111111111111116"
                rpy="0 0 0"/>
        <axis xyz="0 0 1"/>
        
    </joint>


</robot>
